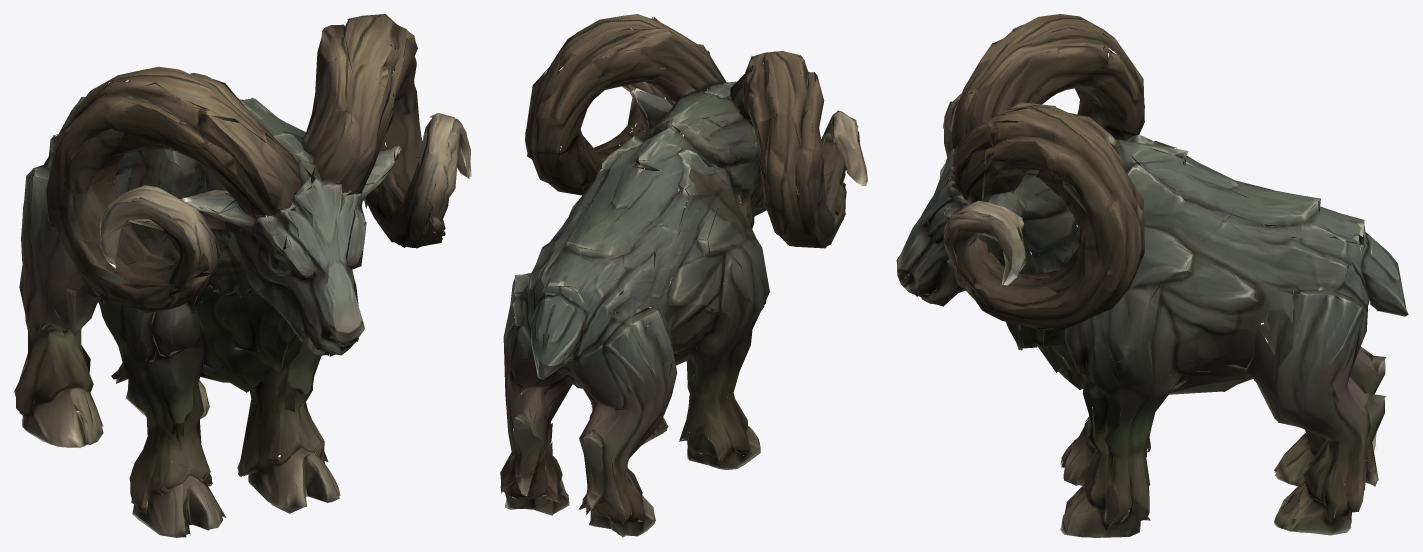
The model's file is mesh_bark_ram_a.glb.
3 views of the same model, side by side, from view 1: azimuth 30°, elevation 25°; view 2: azimuth 150°, elevation 25°; view 3: azimuth 270°, elevation 25° (orthographic). The views are drawn at different scales.
Parts seen in each view (by area): view 1: mesh_bark_ram_a__Mesh_0; view 2: mesh_bark_ram_a__Mesh_0; view 3: mesh_bark_ram_a__Mesh_0.
Boxes of the visible parts, x1,y1,x2,y2 form: mesh_bark_ram_a__Mesh_0: (14, 14, 471, 537); mesh_bark_ram_a__Mesh_0: (500, 14, 867, 537); mesh_bark_ram_a__Mesh_0: (896, 14, 1408, 537).
Size of the model in its own units: 4.67 by 5.78 by 6.2.
1 material, 1 textured.
